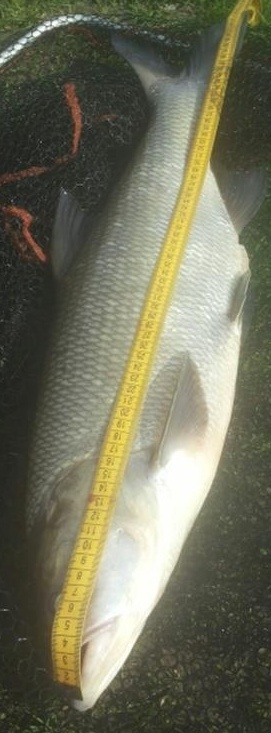Aspius aspius: (20, 20, 251, 713)
